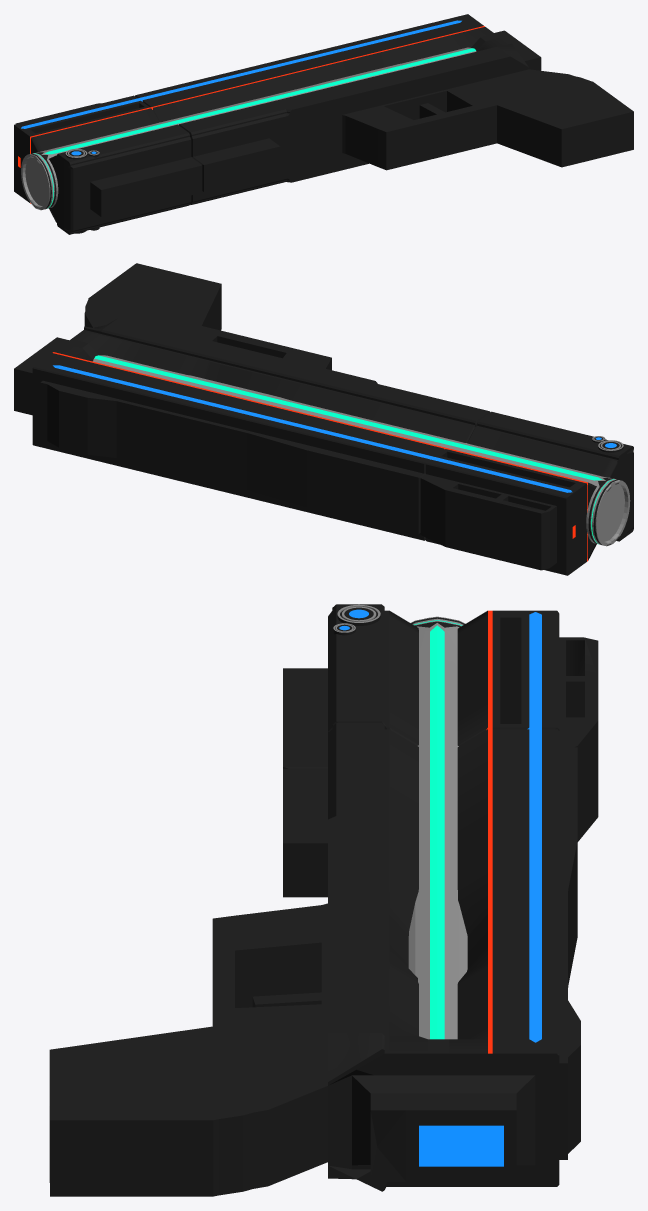
The model's file is newGun.fbx.
3 views of the same model, one above another, from view 1: azimuth 30°, elevation 25°; view 2: azimuth 150°, elevation 25°; view 3: azimuth 270°, elevation 25° (orthographic). The views are drawn at different scales.
Parts seen in each view (by area): view 1: TheNewGun; view 2: TheNewGun; view 3: TheNewGun.
Part boxes in pixels (x1=…): TheNewGun: x1=14, y1=14, x2=633, y2=234; TheNewGun: x1=14, y1=263, x2=633, y2=575; TheNewGun: x1=49, y1=604, x2=598, y2=1196.
Bounding box in the file's own units: 423 × 61.05 × 200.
